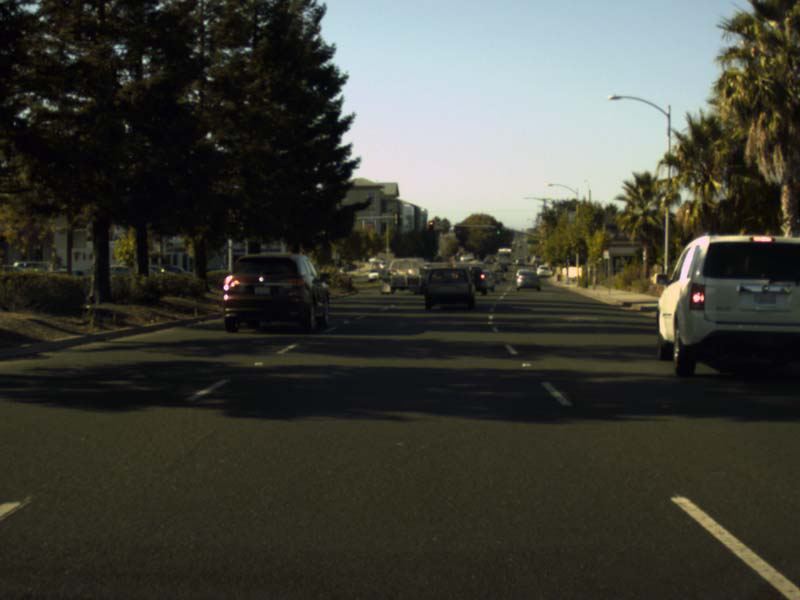Green: (496, 224, 500, 235)
Red: (428, 221, 432, 231)
